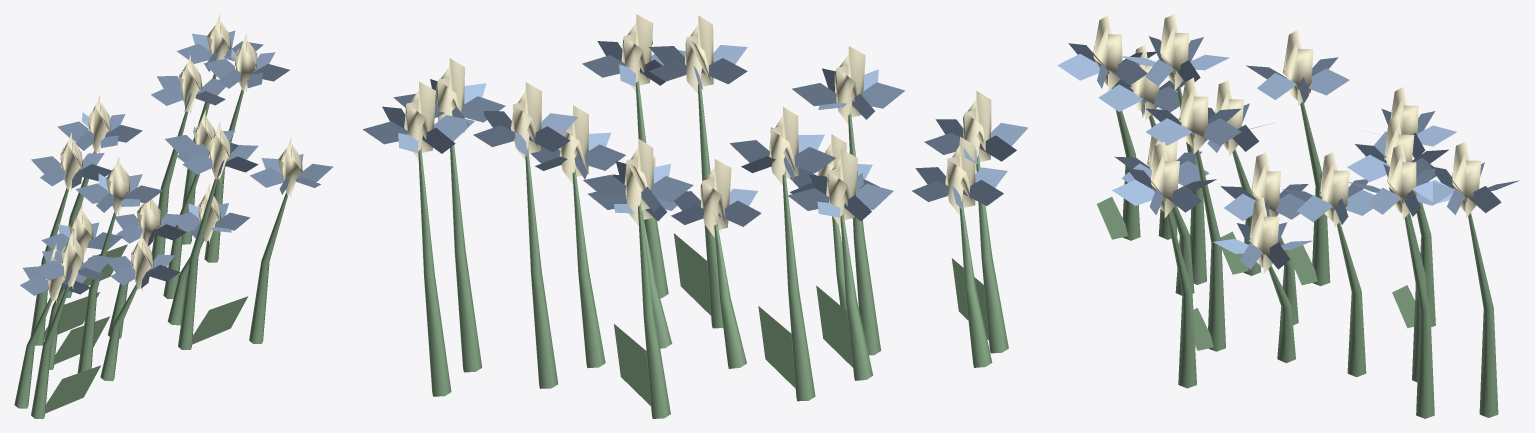
The model's file is flower_blue.glb.
The picture shows the model from 3 angles, left to right: view 1: azimuth 30°, elevation 25°; view 2: azimuth 150°, elevation 25°; view 3: azimuth 270°, elevation 25°; orthographic projection. The views are drawn at different scales.
Visible parts, largest first — view 1: flower_blue; view 2: flower_blue; view 3: flower_blue.
Boxes of the visible parts, <box> form: flower_blue: <box>14,14,333,418</box>; flower_blue: <box>363,14,1027,418</box>; flower_blue: <box>1057,14,1519,418</box>.
Size of the model in its own units: 1.39 by 0.8401 by 1.22.
